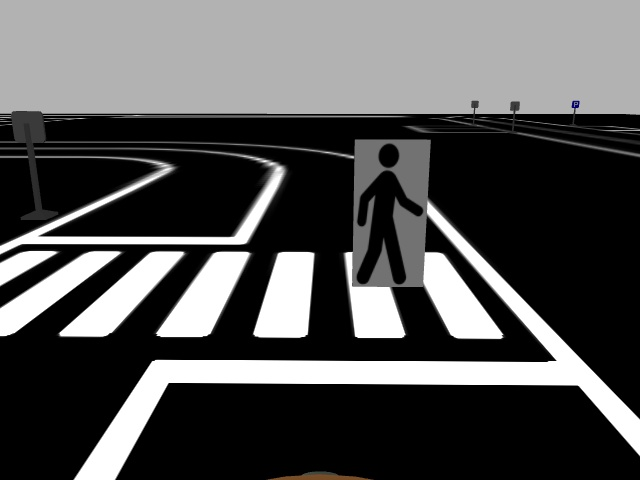parking: (570, 99, 580, 110)
pedestrian: (349, 137, 434, 288)
